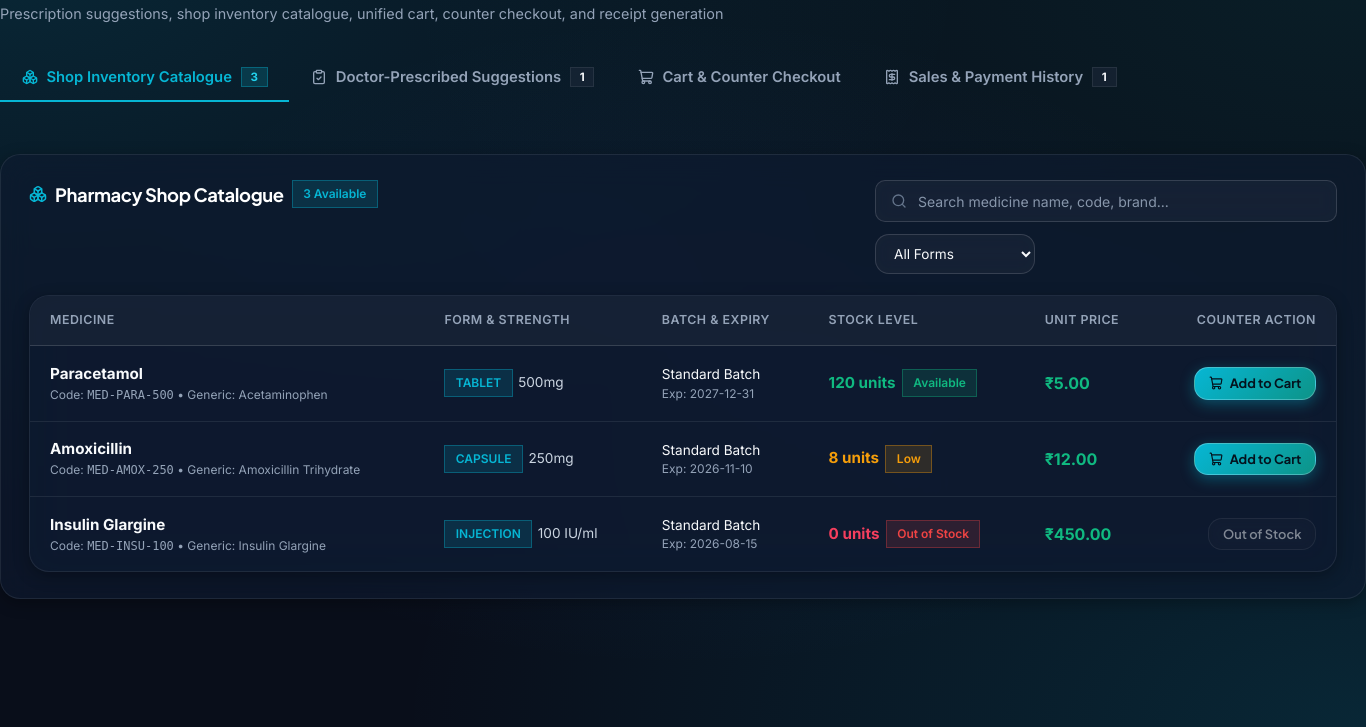
CareFlow HMS — Pharmacist Dashboard Redesign Test Suite › PharmacistBuyingPaymentPage counter checkout creates payment, deducts stock, and opens verified receipt
Check: the text "Shop Inventory Catalogue" is shown, box left=46, top=68, right=232, bottom=86
Check: the text "Paracetamol" is shown, box left=50, top=364, right=143, bottom=383
// Add Paracetamol to cart from shop
Click the button "Add to Cart" in the row of "Paracetamol" at (1255, 383), box left=1194, top=367, right=1316, bottom=400
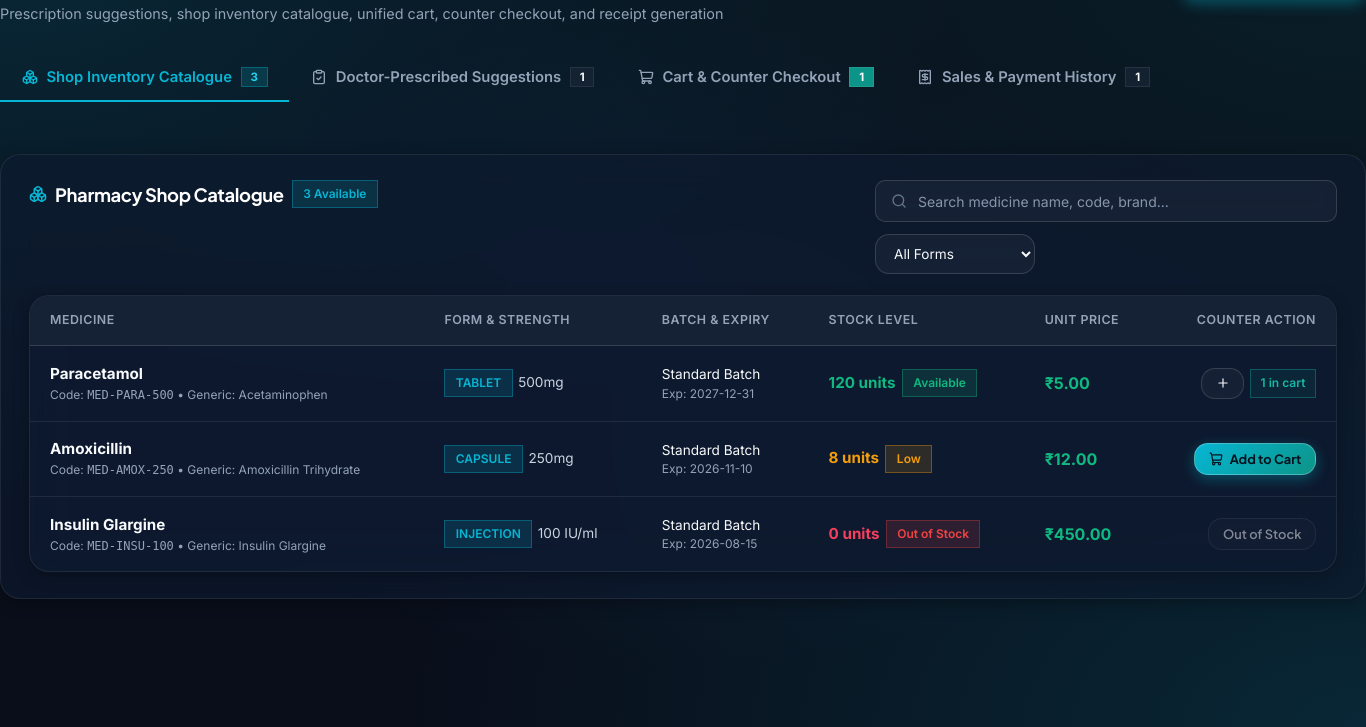
// Go to cart
Click the text "Cart & Counter Checkout" at (752, 77), box left=662, top=68, right=841, bottom=86
(page scrolled)
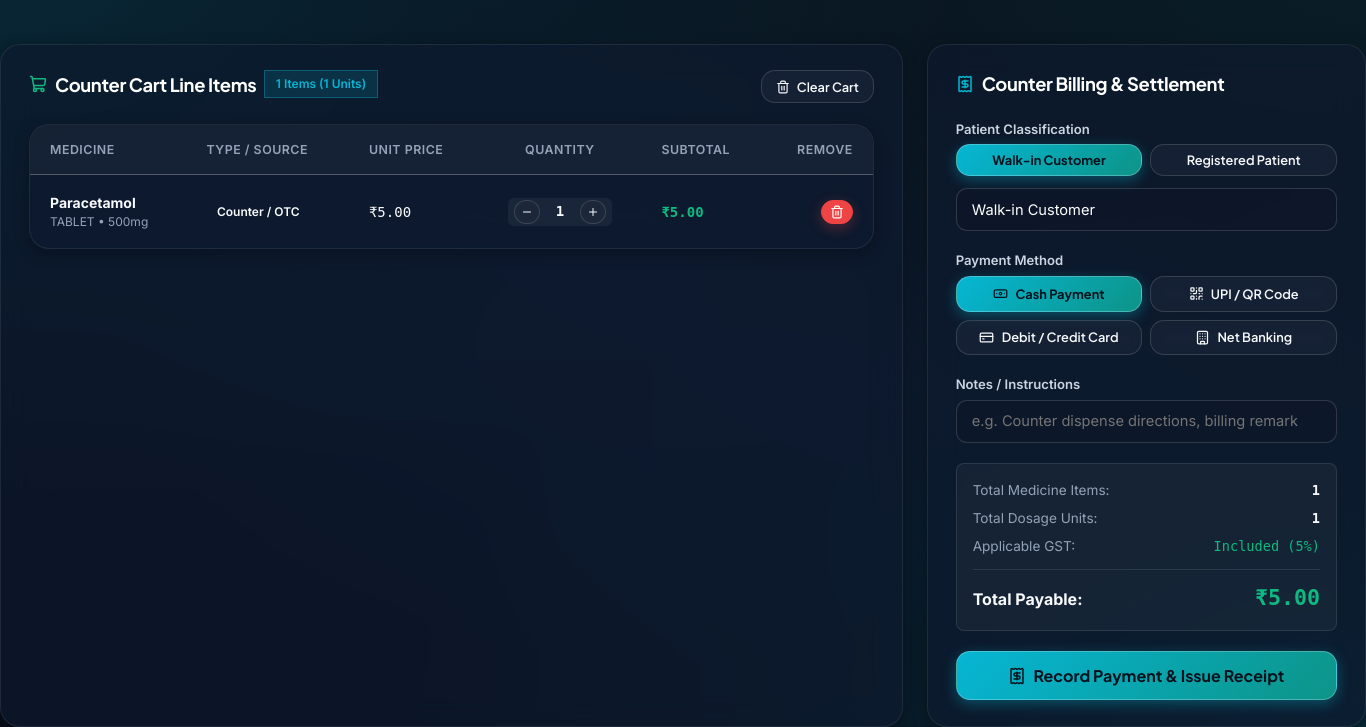
Check: the button "Record Payment & Issue Receipt" is shown
// Submit checkout
Click the button "Record Payment & Issue Receipt" at (1146, 676), box left=956, top=651, right=1337, bottom=700
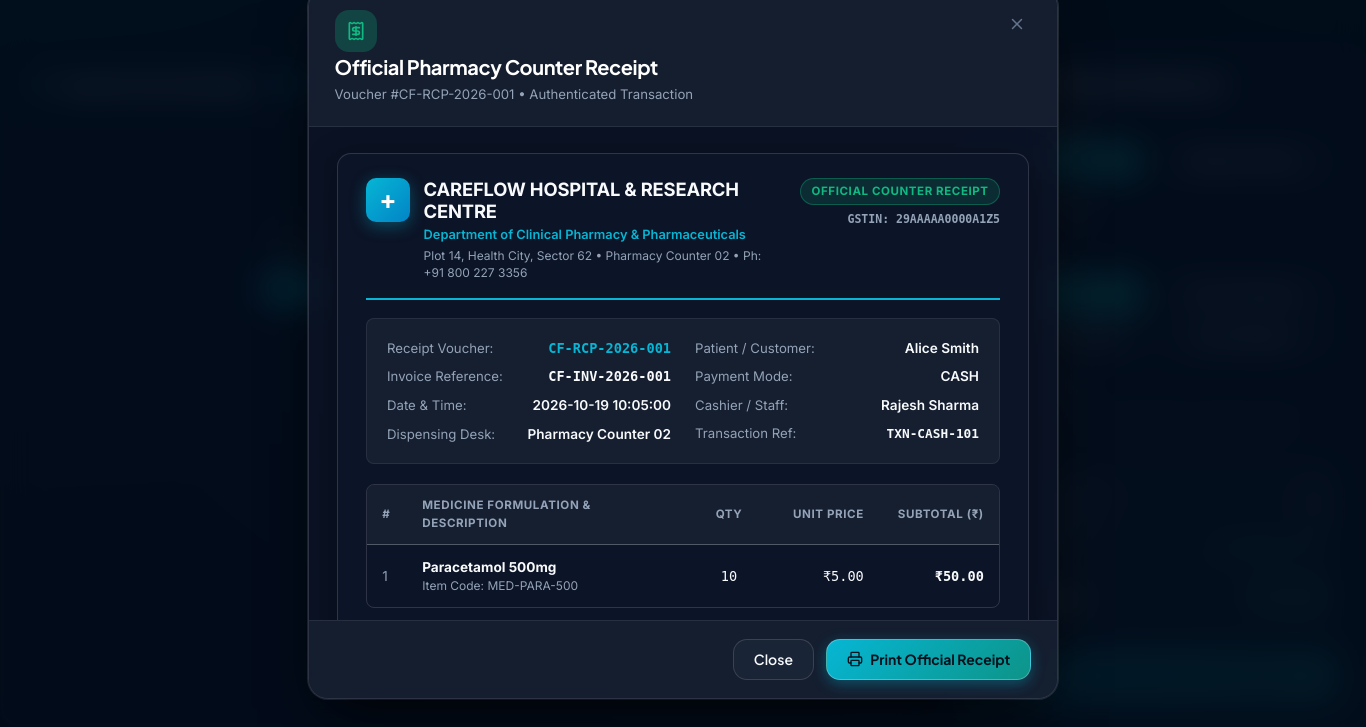
Check: the heading "Official Pharmacy Counter Receipt" is shown, box left=335, top=52, right=693, bottom=82
Check: the text "Voucher #CF-RCP-2026-001 • Authenticated Transaction" is shown, box left=335, top=85, right=693, bottom=105
Check: the button "Print Official Receipt" is shown, box left=826, top=639, right=1031, bottom=680
